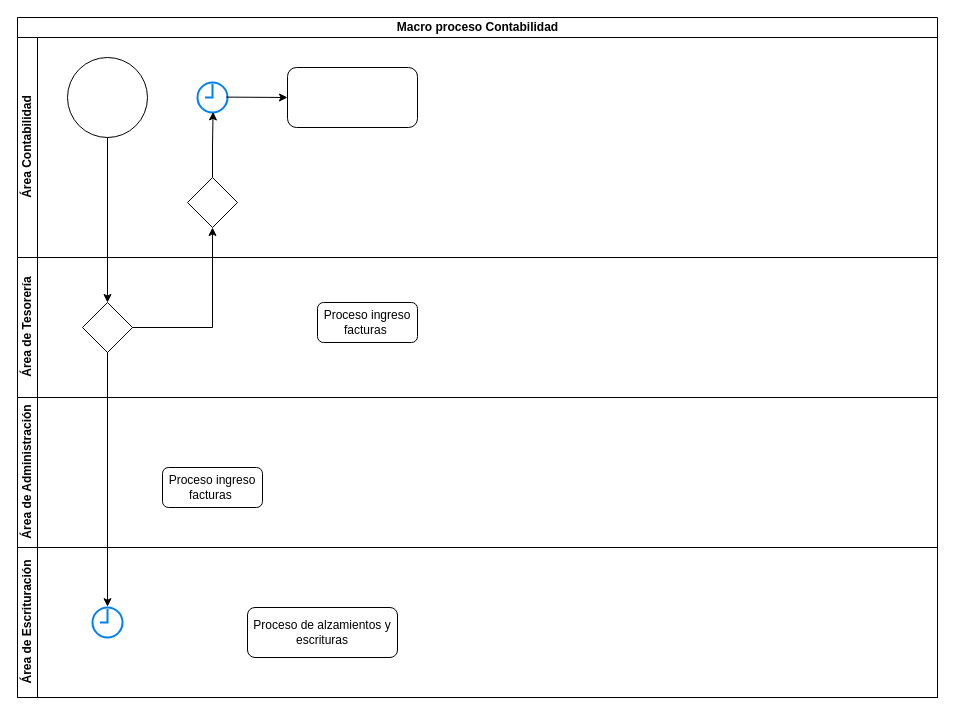
Image size: 955x715. Some labels were removed from this diagram. Here are the shapes that lost their labels. From the top down, the centre of each, then its label:
At (107,97): "Inicio del mes operativo".
At (212,97): "Dia 10 del mes".
At (352,97): "Proceso de declaración de impuestos en el SII".
At (107,622): "Dia jueves".
